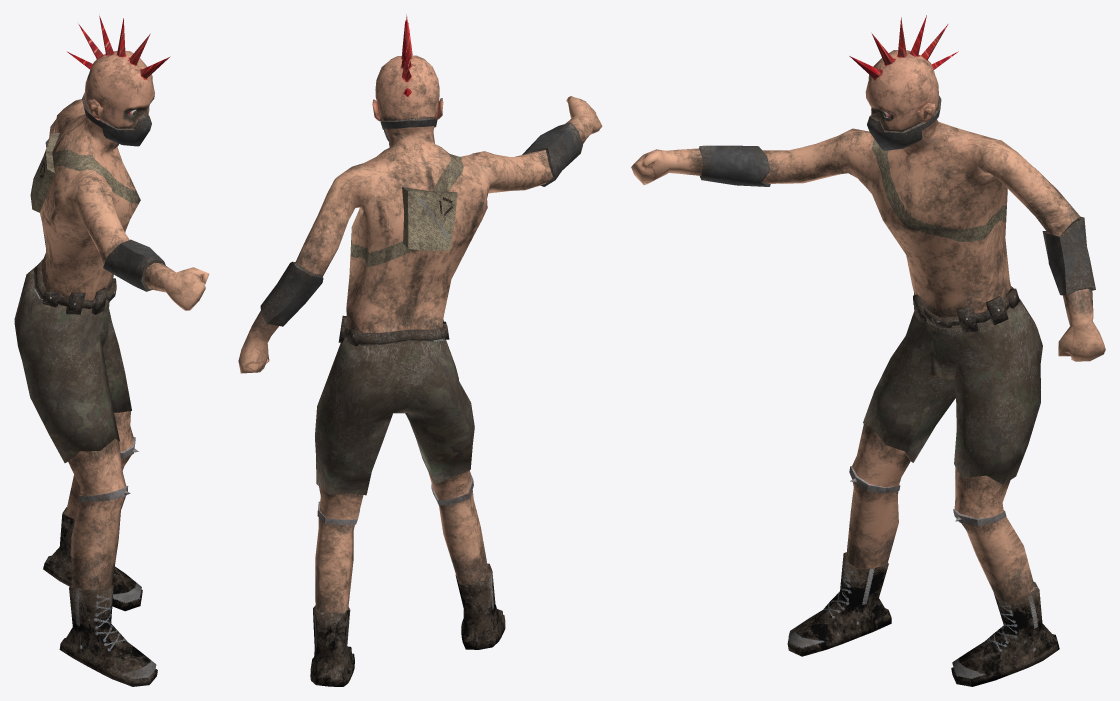
The model's file is Anim_disparar_pistola_npc2.0022.obj.
3 views of the same model, side by side, from view 1: azimuth 30°, elevation 25°; view 2: azimuth 150°, elevation 25°; view 3: azimuth 270°, elevation 25° (orthographic). The views are drawn at different scales.
Parts seen in each view (by area): view 1: polySurface1; view 2: polySurface1; view 3: polySurface1.
Part boxes in pixels (x1,y1,x2,y2): polySurface1: (14,14,209,686); polySurface1: (238,14,602,686); polySurface1: (631,15,1105,686).
Size of the model in its own units: 2.6 by 9.99 by 6.63.
2 materials, 2 textured.
